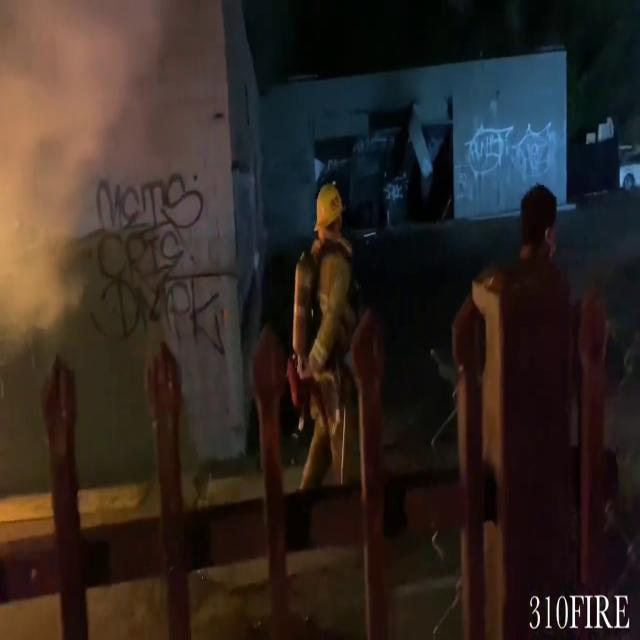Smoke: (0, 0, 193, 404)
